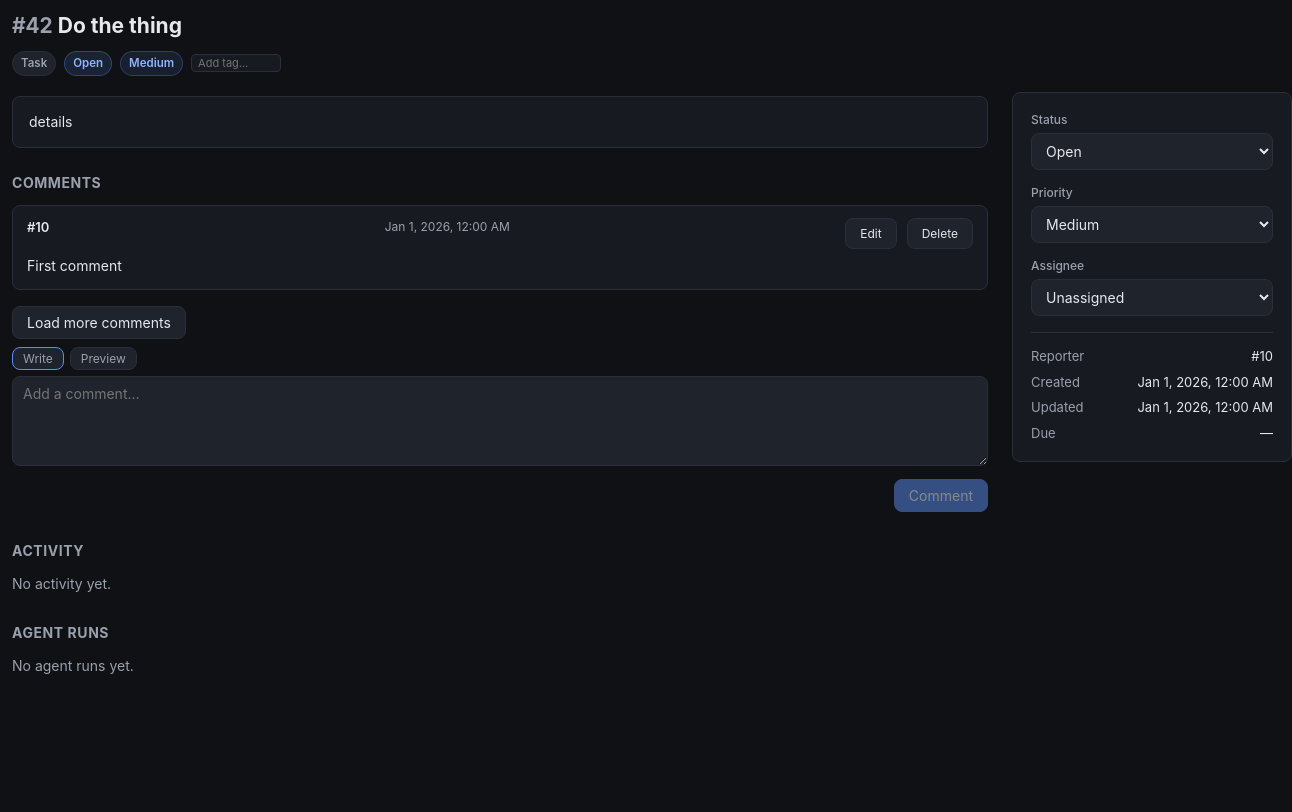
it: TicketDetail comment pagination › shows an error when loadMoreComments fails
Expected: the heading "#42 Do the thing" is shown, [12, 13, 182, 38]
Click the button "Load more comments".
click(99, 323)  # box [12, 306, 186, 340]
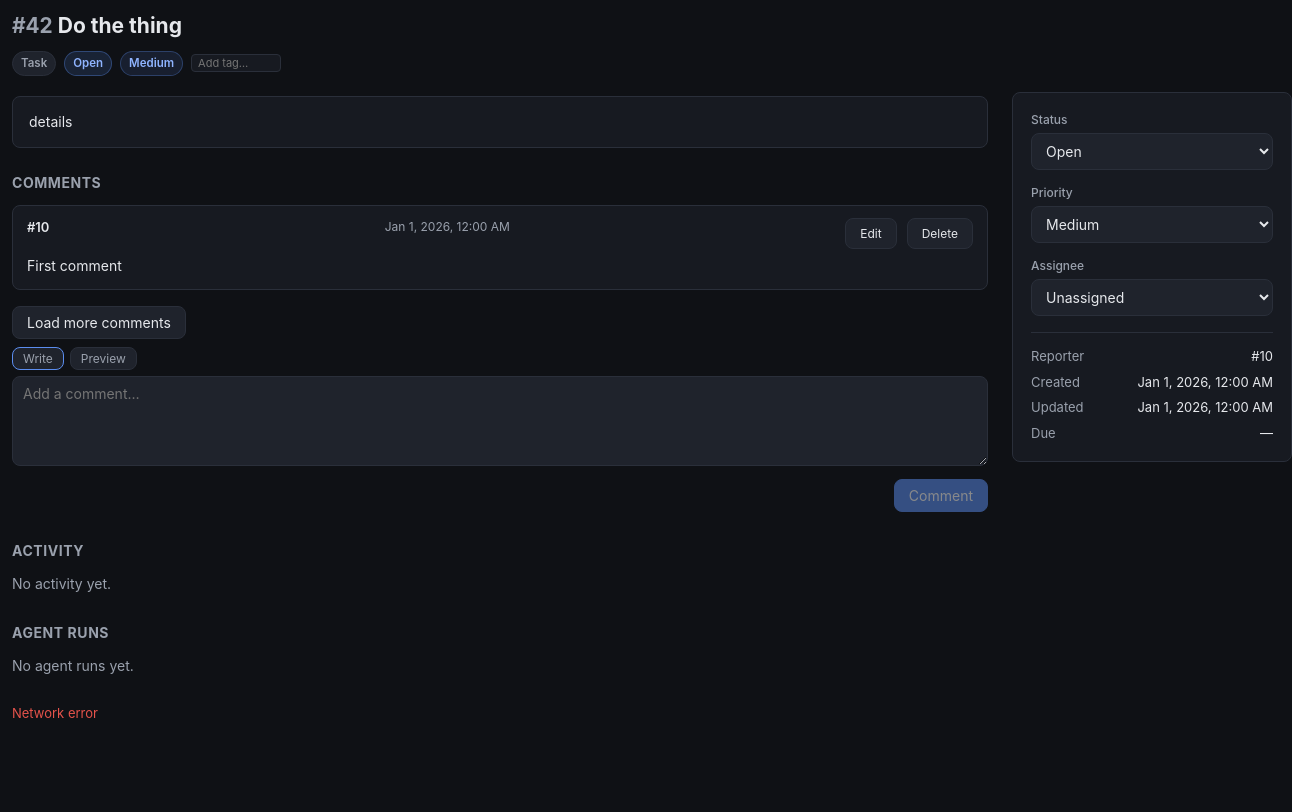
Expected: the text "First comment" is shown, [27, 257, 122, 274]
Expected: the text "Network error" is shown, [12, 706, 98, 722]
